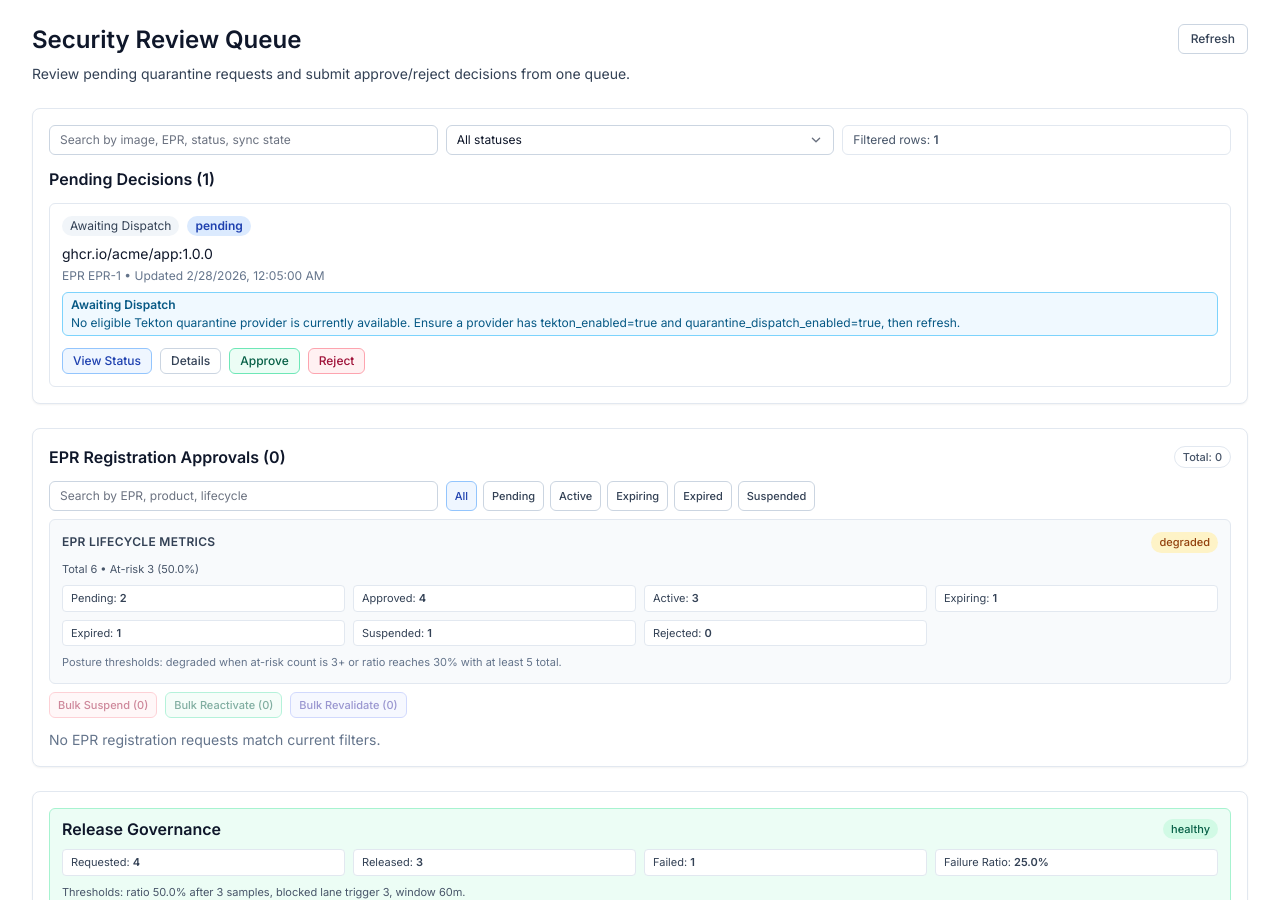
Test: QuarantineReviewWorkbenchPage › renders pending review rows and opens details drawer
This screenshot has width=1280, height=900.
Expected: the text "ghcr.io/acme/app:1.0.0" is shown, 62,245 -> 213,262
Click the button "Details": (191, 361) 160,348 -> 221,374
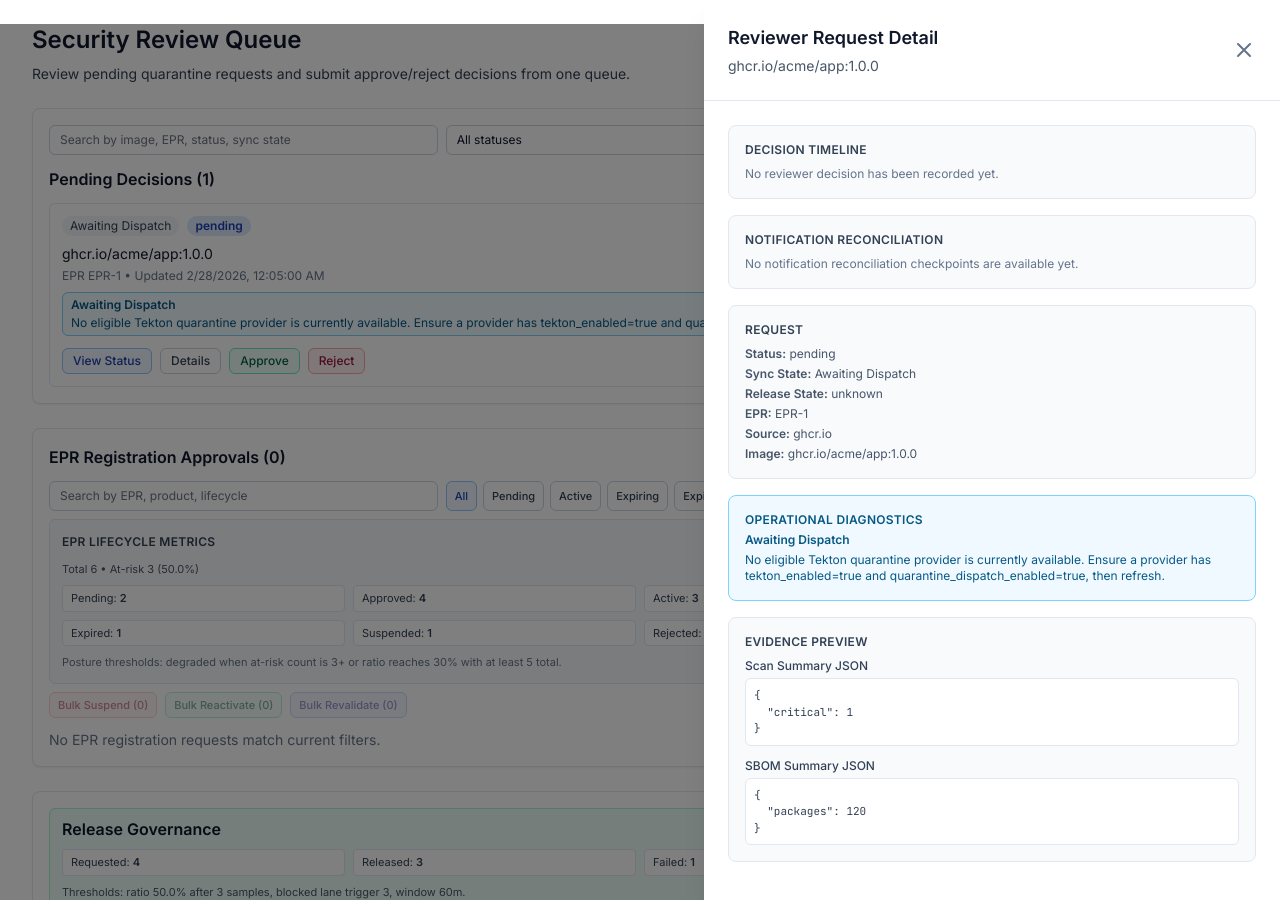
Now the heading "Reviewer Request Detail" is shown, box 728,24 -> 938,52
Now the text "No reviewer decision has been recorded yet." is shown, box 745,166 -> 999,181
Now the text "No notification reconciliation checkpoints are available yet." is shown, box 745,256 -> 1078,271
